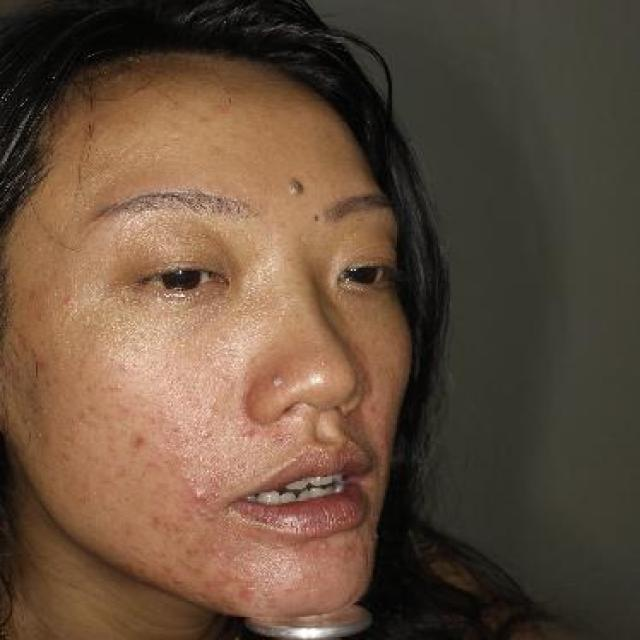papules: (280, 166, 312, 205), (264, 364, 294, 394), (54, 289, 78, 308)
pustules: (183, 486, 214, 506), (318, 540, 332, 554)
